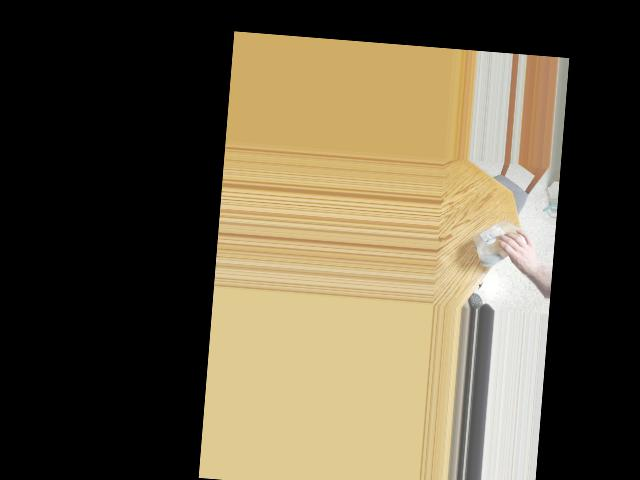cheese: (473, 217, 531, 267)
